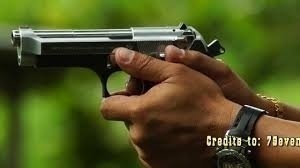pistol: (9, 23, 225, 107)
